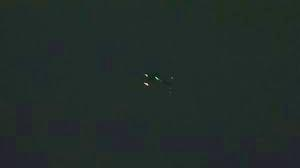Plane: (136, 69, 163, 92)
